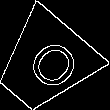O_SW: (11, 31, 78, 97)
